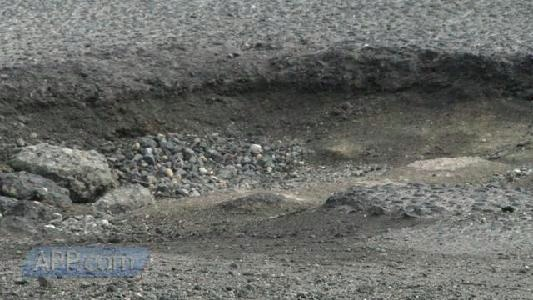pothole: (0, 38, 532, 244)
